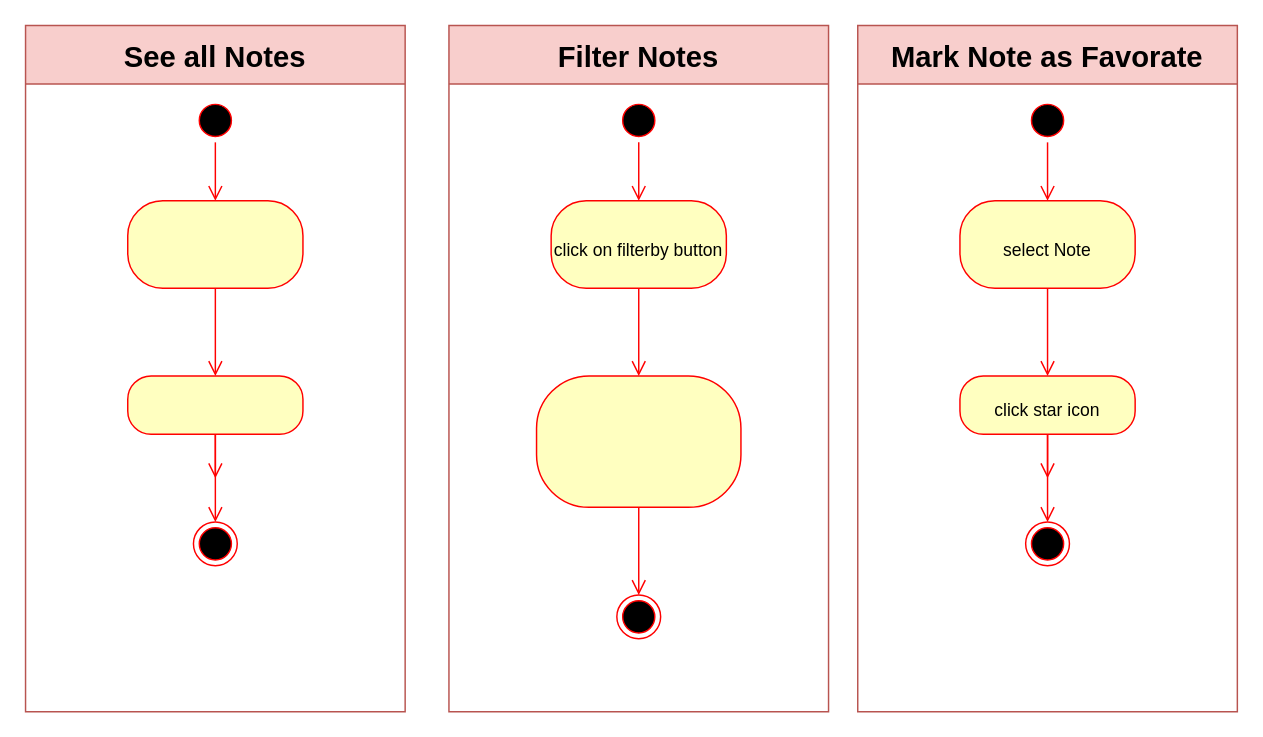
Some shapes in this 1263 by 737 pixel diagram are drawn without their labels. Each missing label, with the centre of its shape:
"open the app" goes at point (214, 243).
"select all-notes tap" goes at point (214, 404).
"select type of filter >> date, tag, color, starred, etc" goes at point (638, 440).
